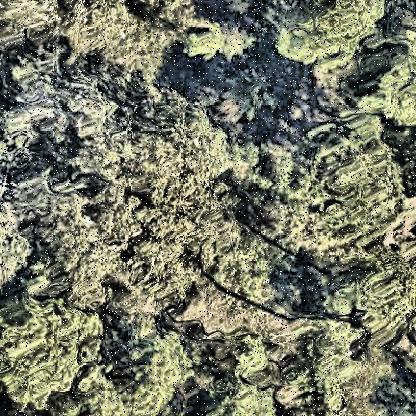tree-top: (258, 107, 402, 254), (112, 85, 240, 216), (32, 179, 132, 295), (1, 300, 107, 406), (1, 58, 120, 152), (64, 1, 173, 81), (331, 250, 416, 343), (272, 5, 386, 73), (118, 329, 204, 416), (289, 322, 349, 415), (369, 34, 416, 128), (183, 17, 255, 69), (1, 195, 40, 287), (1, 2, 64, 58)
